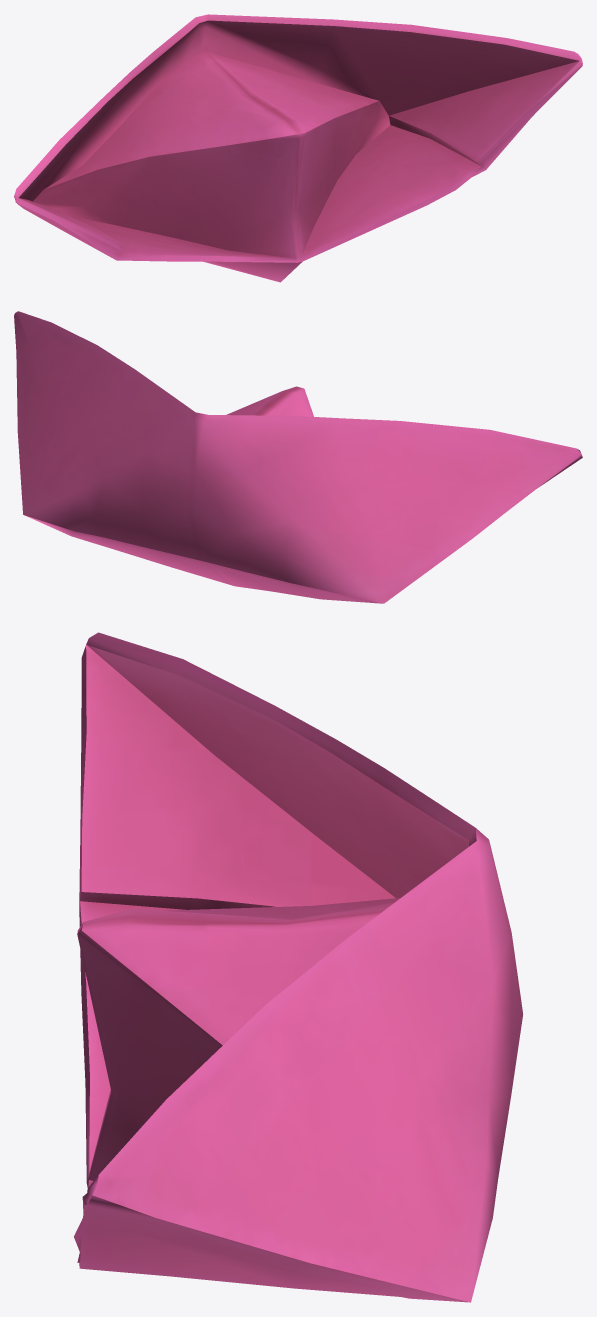
Rendered from GTPaperBoat.obj.
3 renders of one model, top to bottom at view 1: azimuth 30°, elevation 25°; view 2: azimuth 150°, elevation 25°; view 3: azimuth 270°, elevation 25°, orthographic. The views are drawn at different scales.
Visible parts, largest first — view 1: zhezhixiaochuan; view 2: zhezhixiaochuan; view 3: zhezhixiaochuan.
Part boxes in pixels (<box>): zhezhixiaochuan: <box>14,14,582,282</box>; zhezhixiaochuan: <box>14,311,582,603</box>; zhezhixiaochuan: <box>74,632,523,1302</box>.
Size of the model in its own units: 2.4 by 0.8438 by 0.8238.
